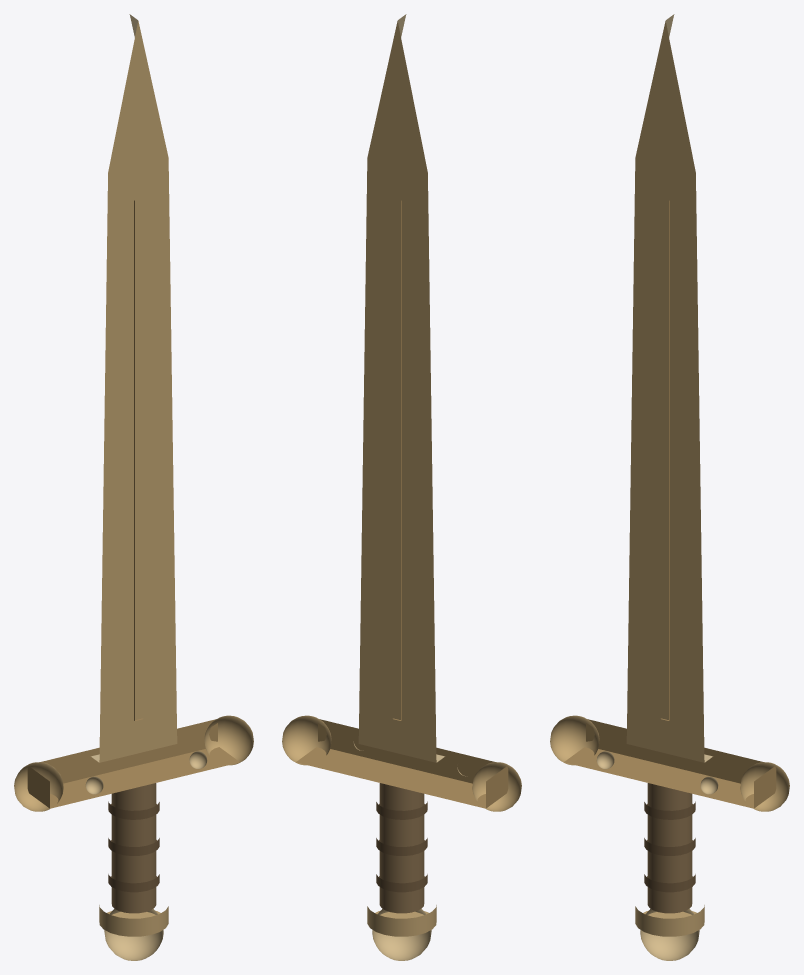
File: bronze_sword.glb
The picture shows the model from 3 angles, left to right: view 1: azimuth 30°, elevation 25°; view 2: azimuth 150°, elevation 25°; view 3: azimuth 330°, elevation 25°; orthographic projection.
Visible parts, largest first — view 1: BronzeSword; view 2: BronzeSword; view 3: BronzeSword.
Part boxes in pixels (box(x1,y1,x2,y2)): BronzeSword: box(14, 14, 253, 960); BronzeSword: box(282, 14, 521, 960); BronzeSword: box(550, 14, 789, 960).
Bounding box in the file's own units: 0.54 × 2.08 × 0.14.
